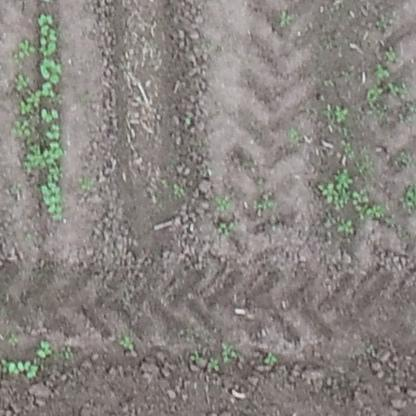vc: (40, 182, 66, 215), (36, 58, 65, 81), (9, 360, 37, 382), (41, 140, 63, 163), (33, 81, 59, 99), (34, 338, 56, 357), (40, 104, 61, 122), (38, 37, 60, 53), (44, 125, 64, 141), (36, 11, 56, 26), (40, 26, 60, 36)
